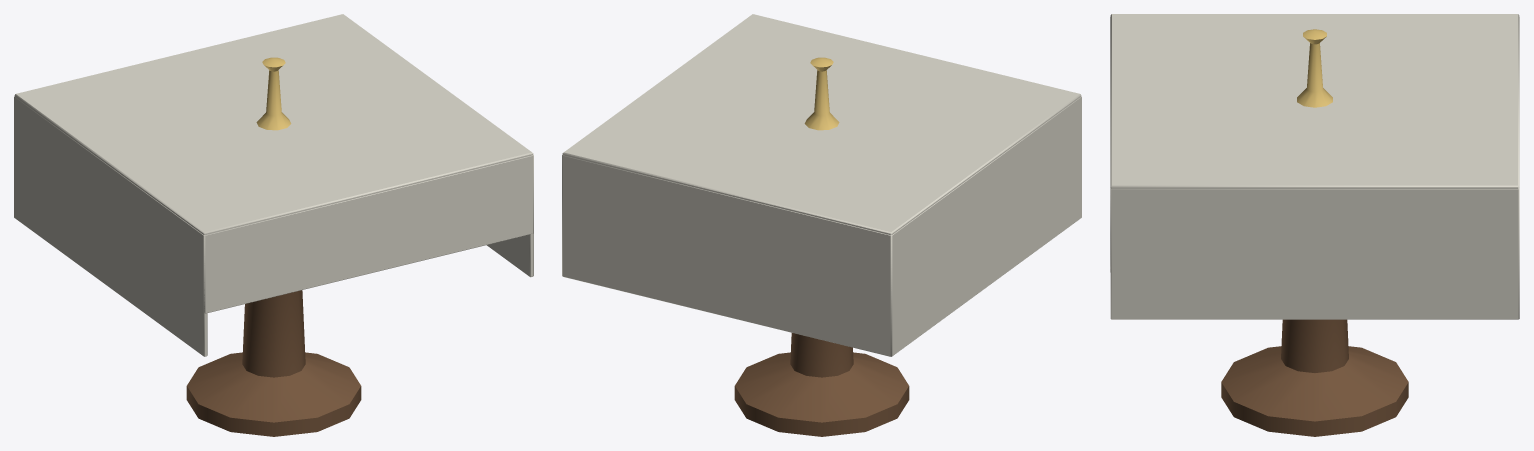
File: arr_tavolo.fbx
3 renders of one model, left to right at view 1: azimuth 30°, elevation 25°; view 2: azimuth 150°, elevation 25°; view 3: azimuth 270°, elevation 25°, orthographic. The views are drawn at different scales.
Parts seen in each view (by area): view 1: arr_tavolo_lenzuolo, arr_tavolo_noce, arr_tavolo_ottone; view 2: arr_tavolo_lenzuolo, arr_tavolo_noce, arr_tavolo_ottone; view 3: arr_tavolo_lenzuolo, arr_tavolo_noce, arr_tavolo_ottone.
Boxes of the visible parts, box(x1,y1,x2,y2) form: arr_tavolo_lenzuolo: box(14, 14, 533, 356); arr_tavolo_noce: box(186, 290, 361, 436); arr_tavolo_ottone: box(256, 57, 291, 130); arr_tavolo_lenzuolo: box(562, 14, 1081, 356); arr_tavolo_noce: box(734, 333, 909, 436); arr_tavolo_ottone: box(804, 57, 839, 130); arr_tavolo_lenzuolo: box(1110, 14, 1519, 319); arr_tavolo_noce: box(1221, 319, 1408, 436); arr_tavolo_ottone: box(1297, 29, 1332, 107).
Size of the model in its own units: 0.962 by 0.95 by 0.962.
